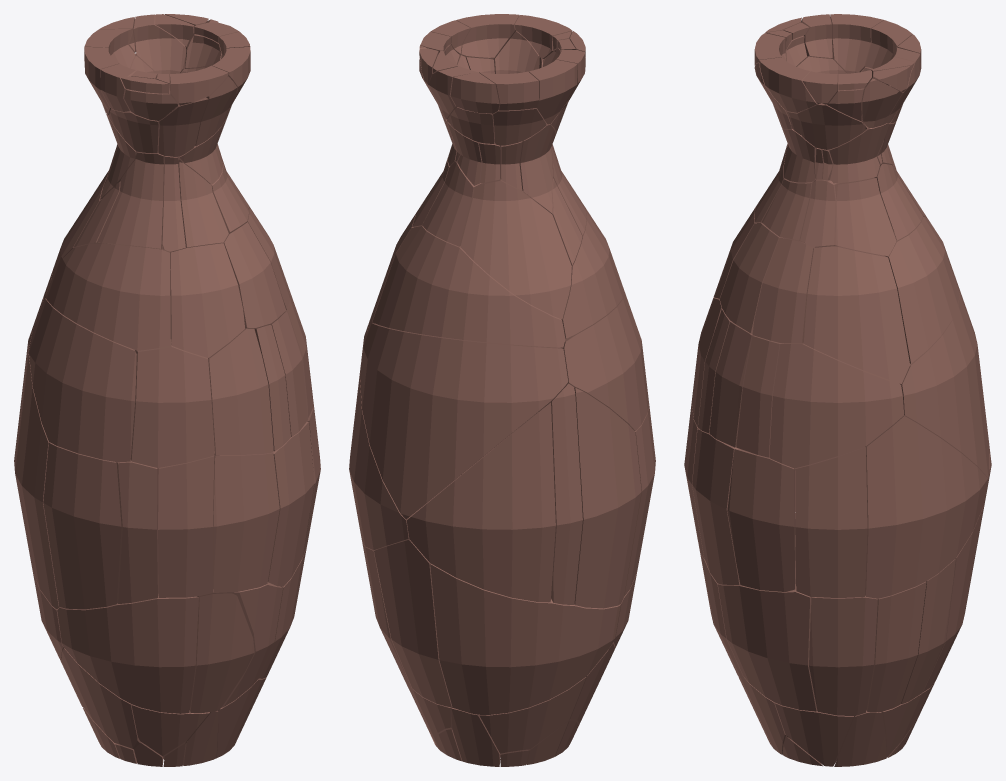
The model's file is vase_explode_test_fbx.fbx.
3 views of the same model, side by side, from view 1: azimuth 30°, elevation 25°; view 2: azimuth 150°, elevation 25°; view 3: azimuth 270°, elevation 25° (orthographic).
Parts seen in each view (by area): view 1: Vase_Explode_cell.037, Vase_Explode_cell.029, Vase_Explode_cell.098, Vase_Explode_cell.042, Vase_Explode_cell.041, Vase_Explode_cell.001, Vase_Explode_cell.054, Vase_Explode_cell.078, Vase_Explode_cell.019, Vase_Explode_cell.055, Vase_Explode_cell.065, Vase_Explode_cell.057 (+36 smaller); view 2: Vase_Explode_cell.075, Vase_Explode_cell.077, Vase_Explode_cell.022, Vase_Explode_cell.018, Vase_Explode_cell.057, Vase_Explode_cell.002, Vase_Explode_cell.026, Vase_Explode_cell.037, Vase_Explode_cell.028, Vase_Explode_cell.003, Vase_Explode_cell.042, Vase_Explode_cell.068 (+26 smaller); view 3: Vase_Explode_cell.003, Vase_Explode_cell.020, Vase_Explode_cell.014, Vase_Explode_cell.045, Vase_Explode_cell.083, Vase_Explode_cell.075, Vase_Explode_cell.051, Vase_Explode_cell.025, Vase_Explode_cell.018, Vase_Explode_cell.035, Vase_Explode_cell.095, Vase_Explode_cell.061 (+35 smaller).
Part boxes in pixels (<box>): Vase_Explode_cell.037: <box>29,298,136,462</box>; Vase_Explode_cell.029: <box>57,594,198,713</box>; Vase_Explode_cell.098: <box>43,442,121,609</box>; Vase_Explode_cell.042: <box>45,243,170,350</box>; Vase_Explode_cell.041: <box>130,339,214,467</box>; Vase_Explode_cell.001: <box>213,453,279,592</box>; Vase_Explode_cell.054: <box>158,451,215,597</box>; Vase_Explode_cell.078: <box>170,243,245,357</box>; Vase_Explode_cell.019: <box>208,328,273,454</box>; Vase_Explode_cell.055: <box>190,593,254,713</box>; Vase_Explode_cell.065: <box>116,460,158,603</box>; Vase_Explode_cell.057: <box>14,341,59,609</box>; Vase_Explode_cell.075: <box>360,323,568,519</box>; Vase_Explode_cell.077: <box>430,563,620,714</box>; Vase_Explode_cell.022: <box>406,402,555,602</box>; Vase_Explode_cell.018: <box>372,226,565,347</box>; Vase_Explode_cell.057: <box>574,387,641,608</box>; Vase_Explode_cell.002: <box>460,179,571,319</box>; Vase_Explode_cell.026: <box>374,539,452,707</box>; Vase_Explode_cell.037: <box>561,292,648,430</box>; Vase_Explode_cell.028: <box>546,383,582,604</box>; Vase_Explode_cell.003: <box>349,362,422,550</box>; Vase_Explode_cell.042: <box>561,205,624,338</box>; Vase_Explode_cell.068: <box>478,677,586,757</box>; Vase_Explode_cell.003: <box>865,416,988,598</box>; Vase_Explode_cell.020: <box>769,342,903,468</box>; Vase_Explode_cell.014: <box>803,246,909,383</box>; Vase_Explode_cell.045: <box>795,446,867,597</box>; Vase_Explode_cell.083: <box>718,577,817,711</box>; Vase_Explode_cell.075: <box>900,283,989,479</box>; Vase_Explode_cell.051: <box>727,449,795,591</box>; Vase_Explode_cell.025: <box>809,595,877,715</box>; Vase_Explode_cell.018: <box>885,216,959,363</box>; Vase_Explode_cell.035: <box>866,581,926,712</box>; Vase_Explode_cell.095: <box>692,429,740,584</box>; Vase_Explode_cell.061: <box>752,237,815,342</box>.
Size of the model in its own units: 63.81 by 158 by 63.81.
